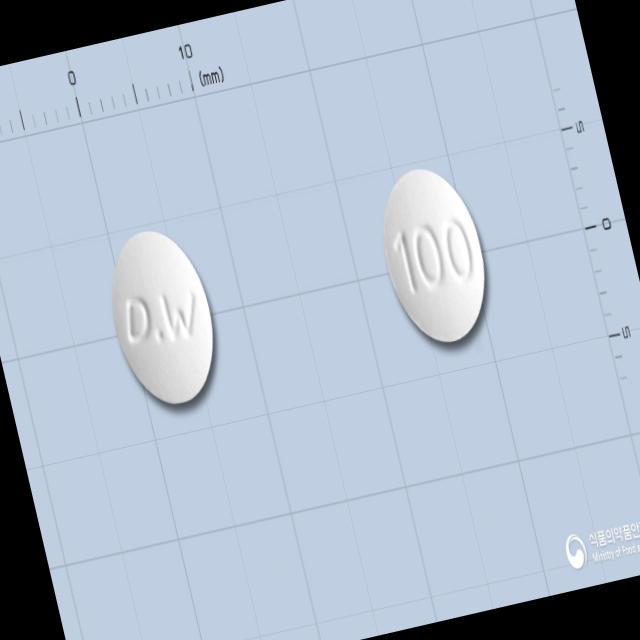Daewoong Levofloxacin: (94, 217, 229, 416), (366, 156, 500, 352)
